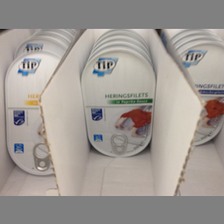fish: (81, 48, 156, 158), (4, 52, 60, 178), (181, 41, 224, 150)
